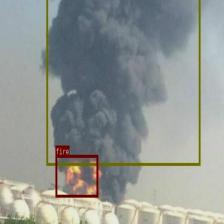fire: (55, 154, 98, 196)
smoke: (46, 0, 200, 165)
